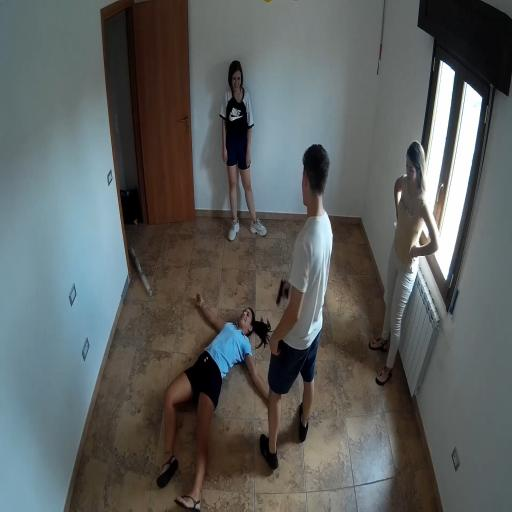violencia: (149, 126, 341, 510)
